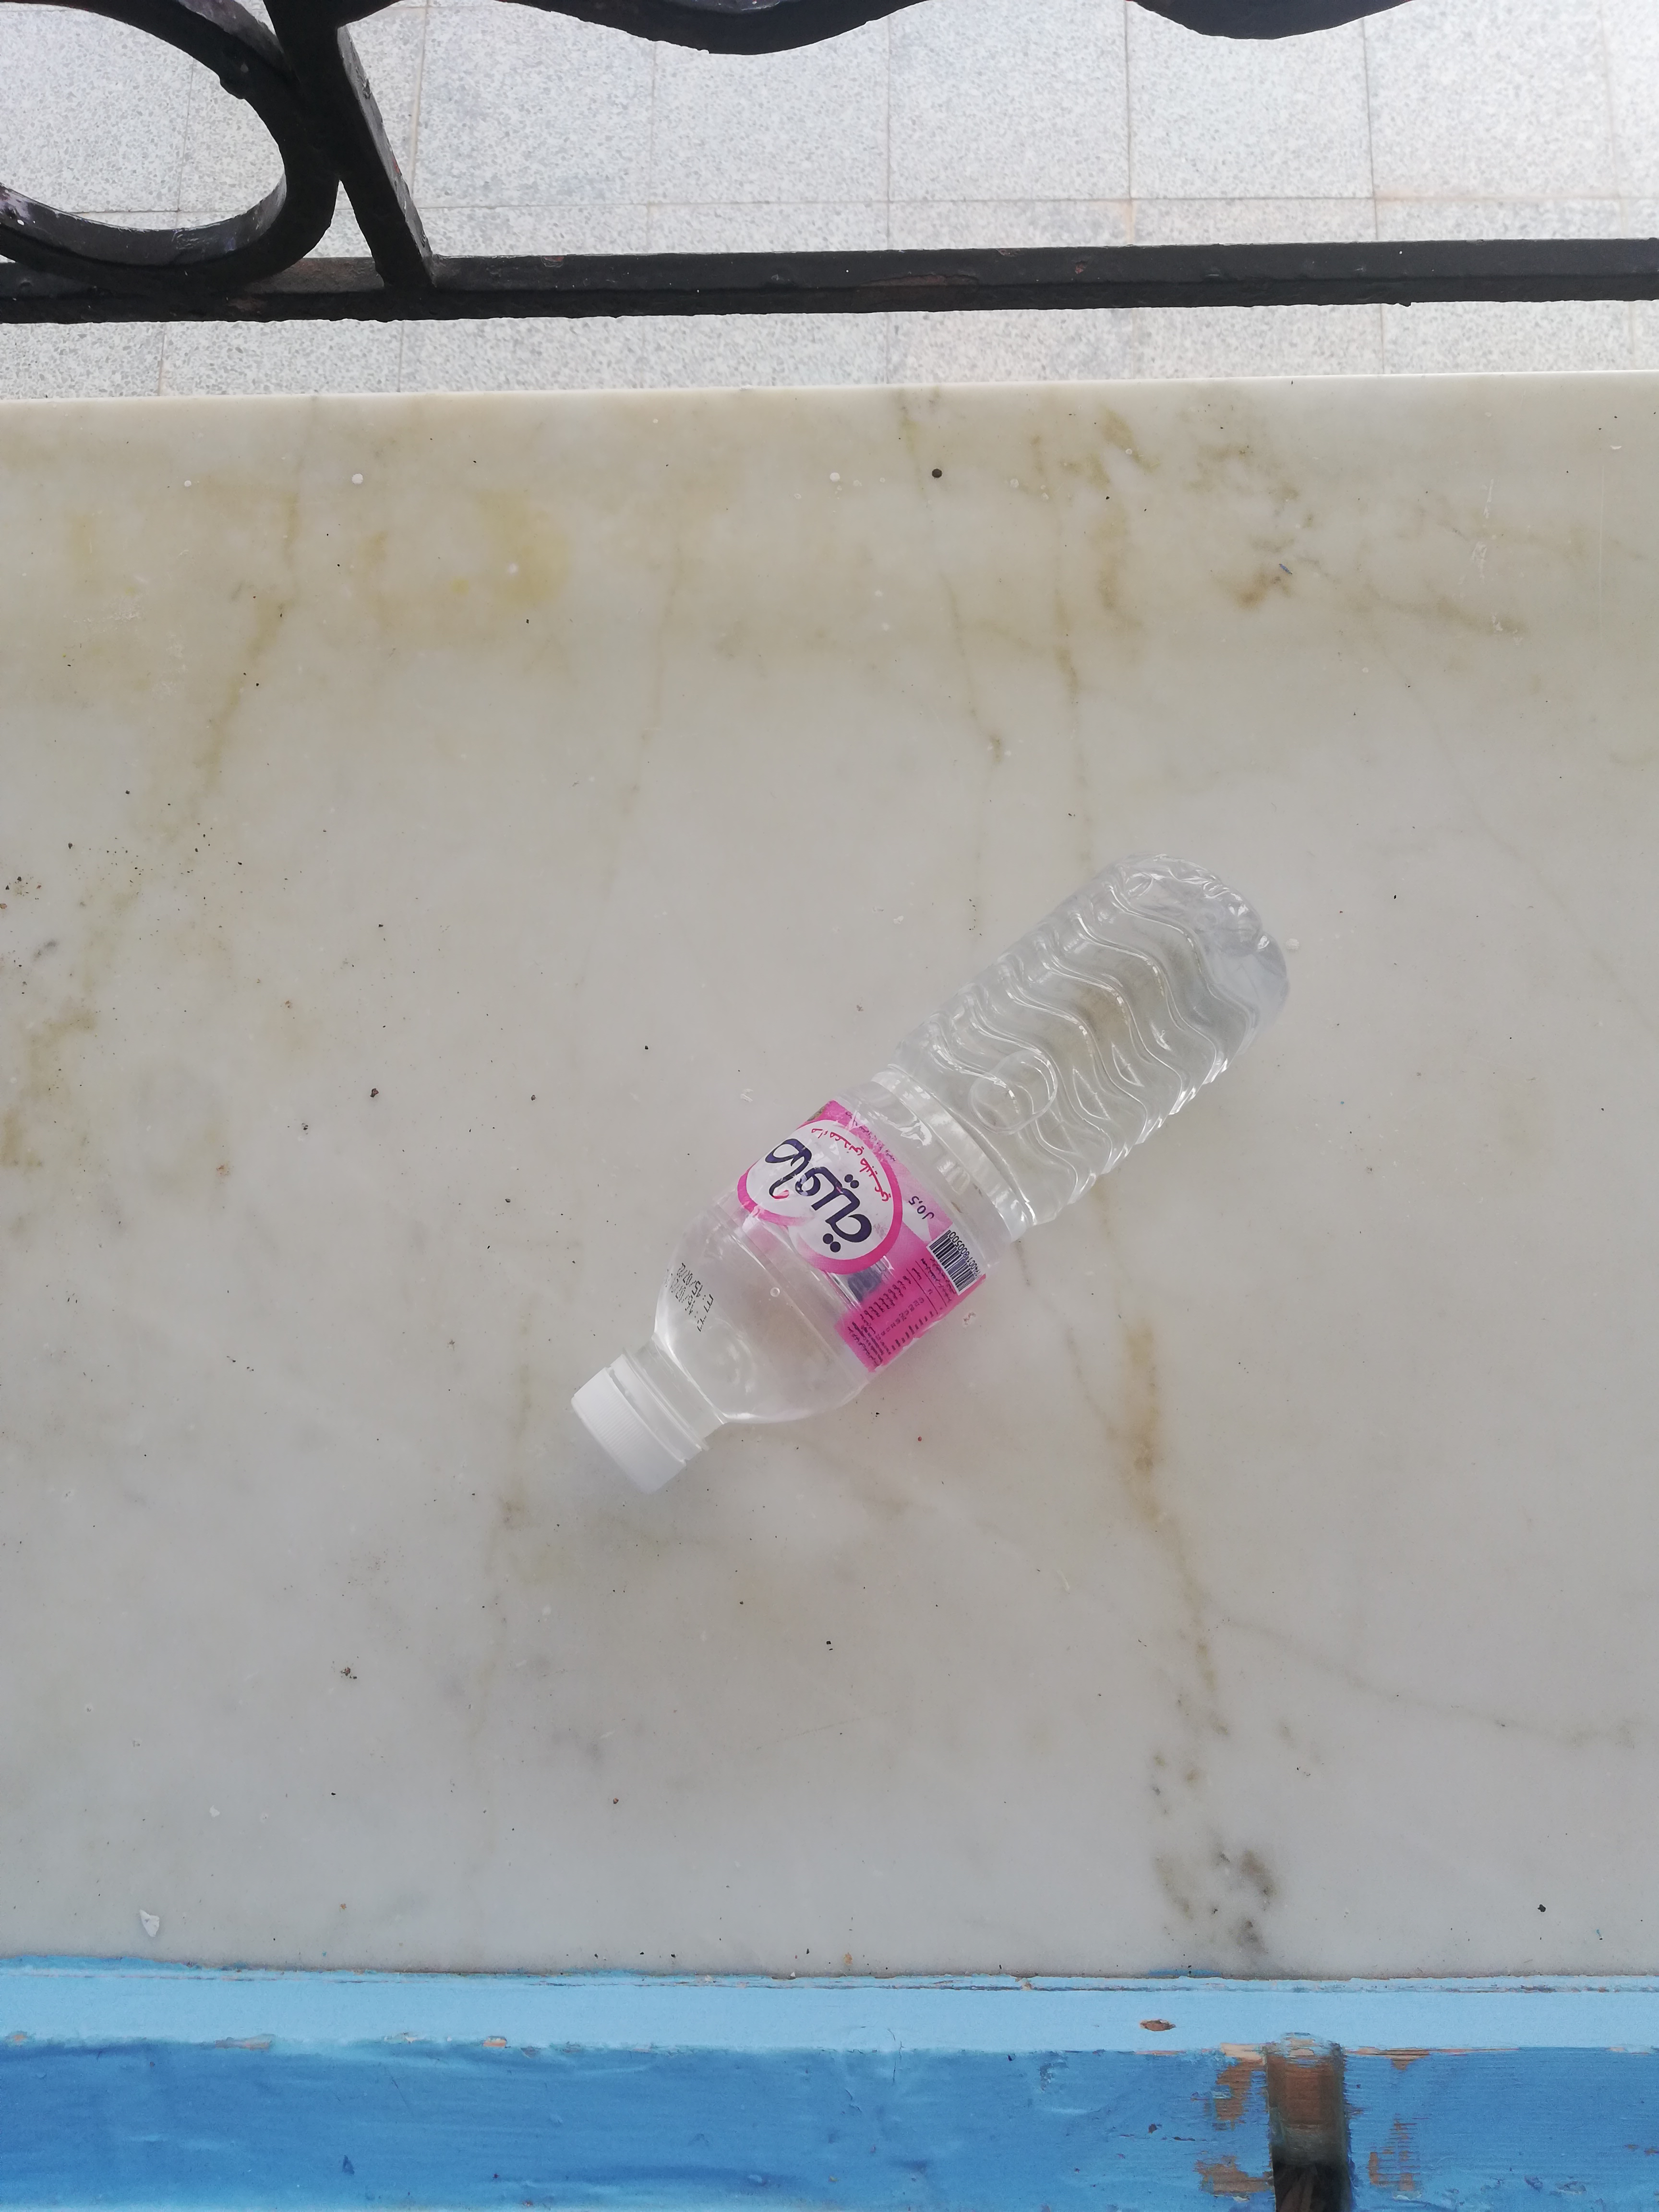Eau safia: (568, 855, 1293, 1486)
